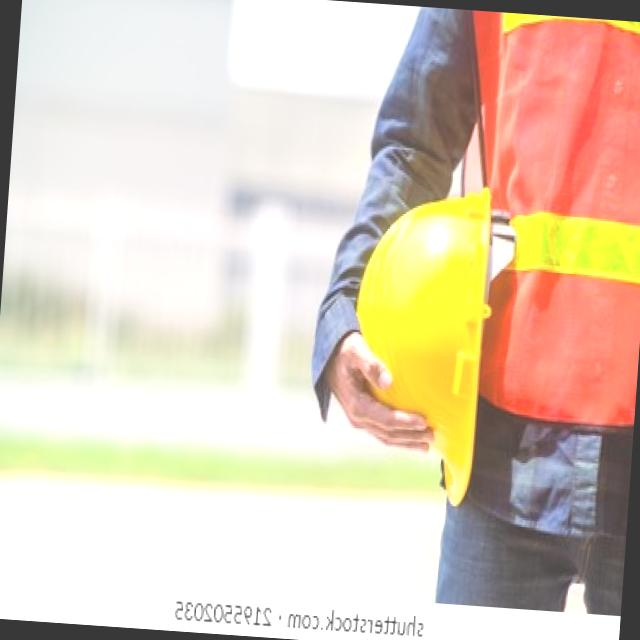helmet: (343, 173, 508, 512)
